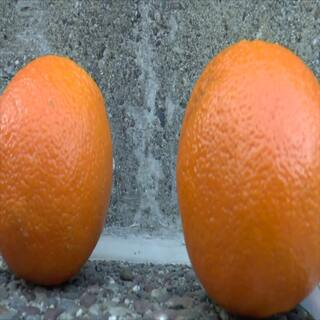orange: (173, 37, 320, 307), (1, 50, 120, 285)
